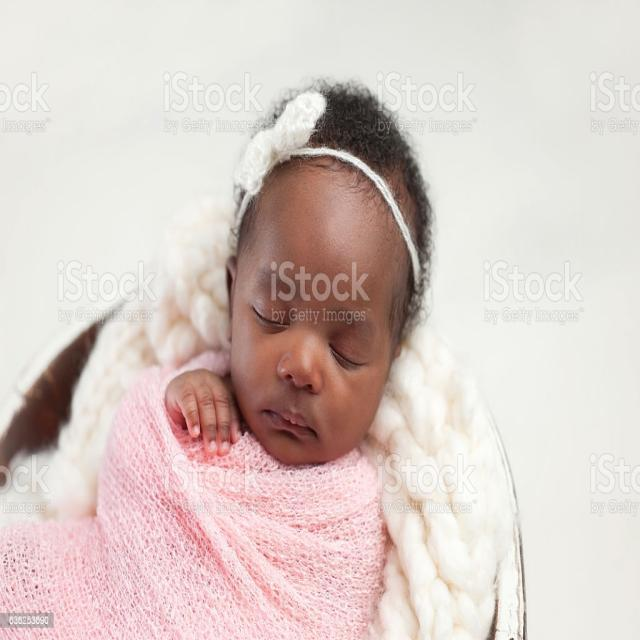non-dog: (0, 77, 433, 640)
